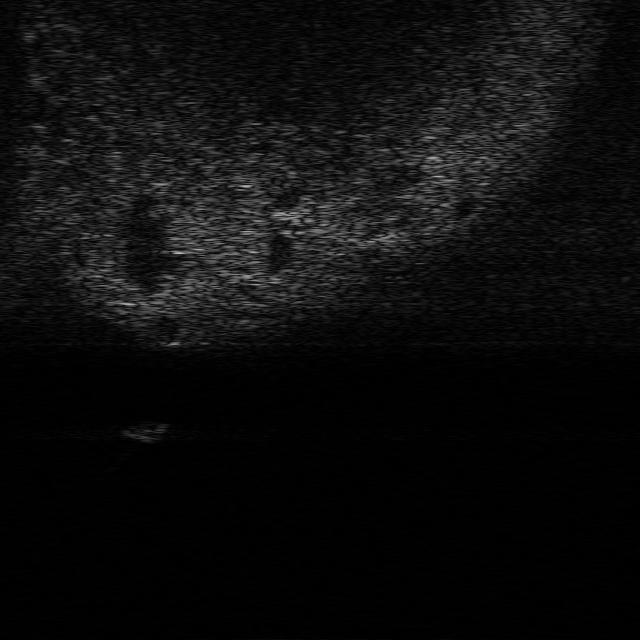cube: (121, 417, 171, 445)
